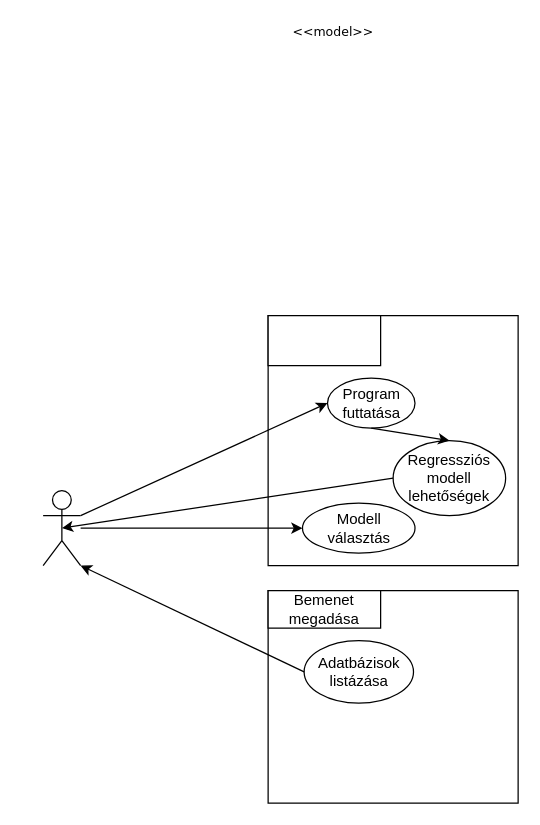
Image size: 540x825. Some labels were removed from this diagram. Each missing label, with the box of its shape:
Felhasználó: (42, 489, 81, 566)
Indítás: (267, 314, 381, 366)
